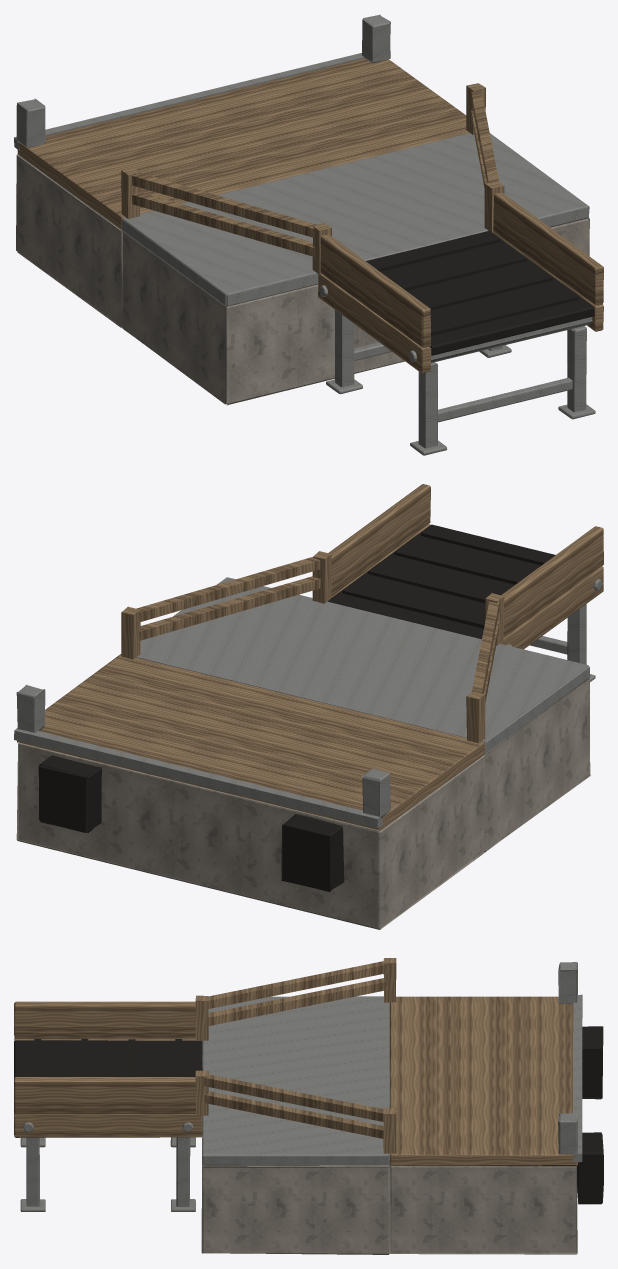
The model's file is loading_dock.glb.
3 renders of one model, top to bottom at view 1: azimuth 30°, elevation 25°; view 2: azimuth 150°, elevation 25°; view 3: azimuth 270°, elevation 25°, orthographic. The views are drawn at different scales.
Parts seen in each view (by area): view 1: LoadingDock, Belt, Roller2; view 2: LoadingDock, Belt; view 3: LoadingDock, Belt.
Boxes of the visible parts, <box> form: LoadingDock: <box>14,14,603,455</box>; Belt: <box>366,231,594,355</box>; Roller2: <box>431,317,592,362</box>; LoadingDock: <box>14,484,603,929</box>; Belt: <box>328,524,555,638</box>; LoadingDock: <box>14,958,603,1254</box>; Belt: <box>14,1039,202,1112</box>.
Size of the model in its own units: 3.38 by 1.38 by 5.28.
4 materials, 3 textured.
